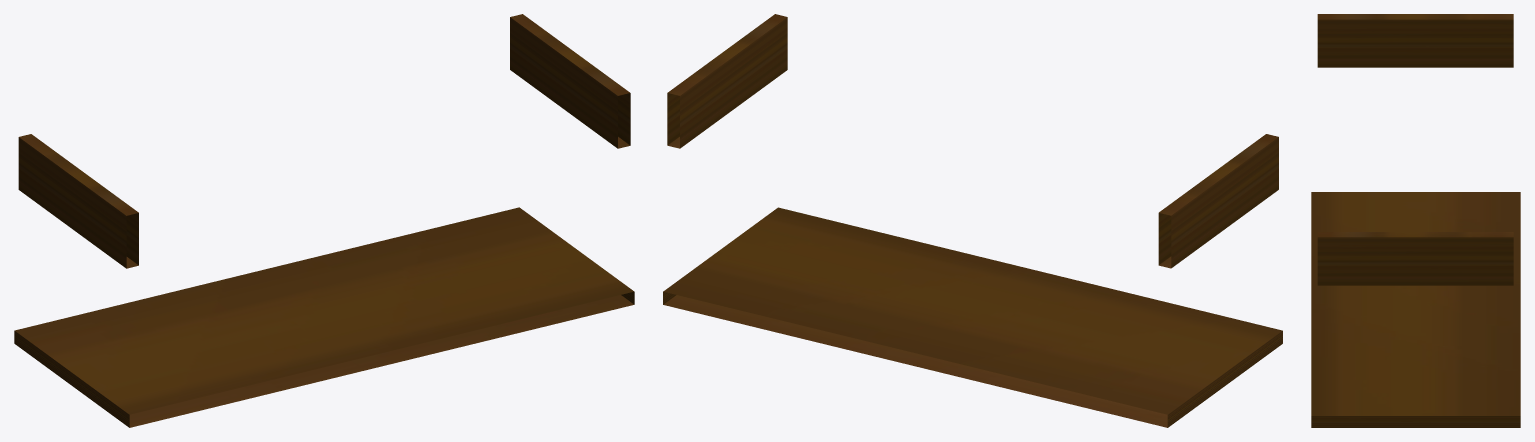
Rendered from Bridge_PartN.FBX.
3 views of the same model, side by side, from view 1: azimuth 30°, elevation 25°; view 2: azimuth 150°, elevation 25°; view 3: azimuth 270°, elevation 25° (orthographic). The views are drawn at different scales.
Parts seen in each view (by area): view 1: pCube1; view 2: pCube1; view 3: pCube1.
Boxes of the visible parts, x1,y1,x2,y2 form: pCube1: (14, 14, 634, 427); pCube1: (663, 14, 1282, 427); pCube1: (1311, 14, 1520, 427).
Bounding box in the file's own units: 1.97 × 0.7802 × 0.7771.
Materials: 1 (1 with a texture image).
